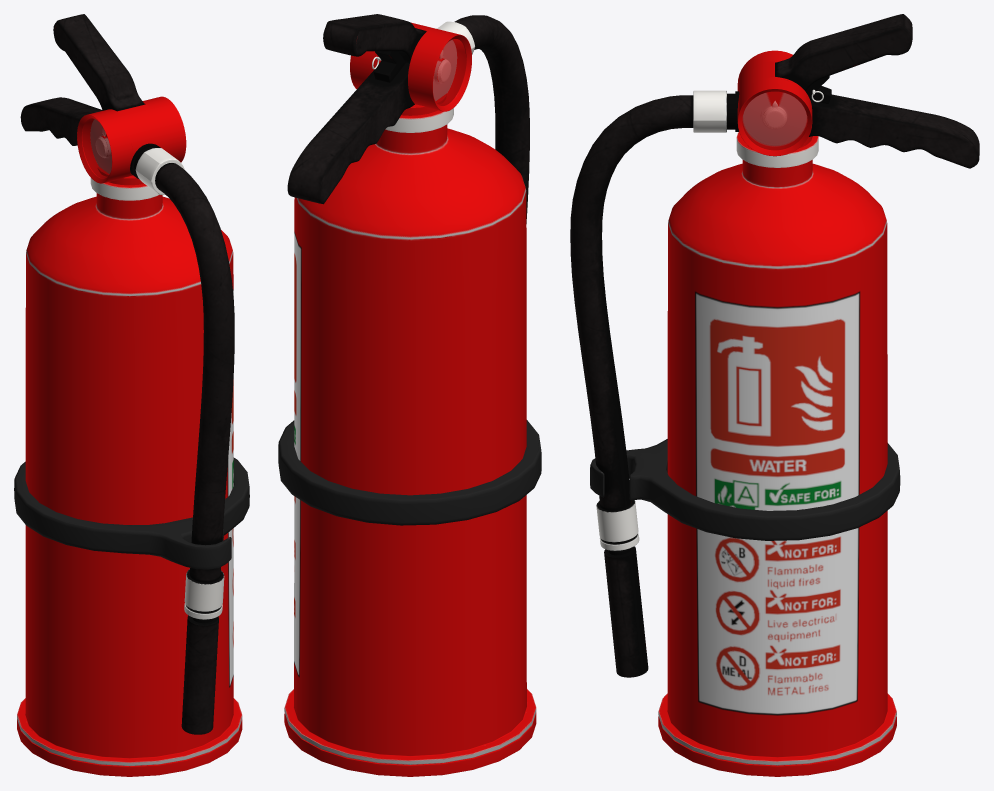
Rendered from fire_extinguisher.glb.
3 renders of one model, left to right at view 1: azimuth 30°, elevation 25°; view 2: azimuth 150°, elevation 25°; view 3: azimuth 270°, elevation 25°, orthographic. The views are drawn at different scales.
Parts seen in each view (by area): view 1: fireEX; view 2: fireEX; view 3: fireEX.
Part boxes in pixels (x1,y1,x2,y2): fireEX: (14, 14, 249, 776); fireEX: (278, 14, 541, 776); fireEX: (570, 14, 979, 776).
Size of the model in its own units: 0.3062 by 0.9585 by 0.5029.
Materials: 1 (1 with a texture image).
